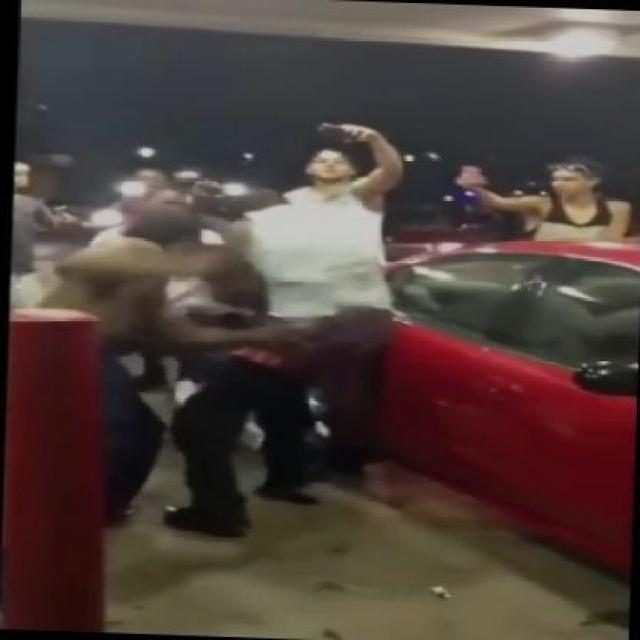fight: (49, 172, 391, 542)
